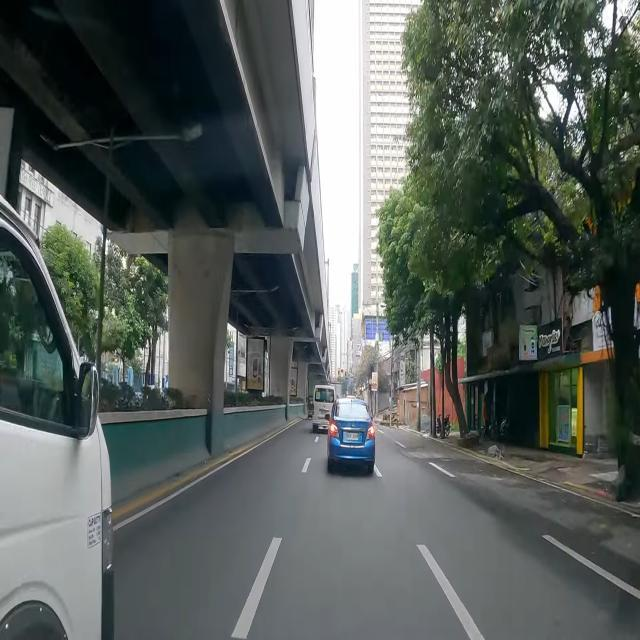car: (0, 196, 114, 640), (327, 398, 375, 474), (312, 384, 337, 432)
truck: (330, 382, 341, 400)
